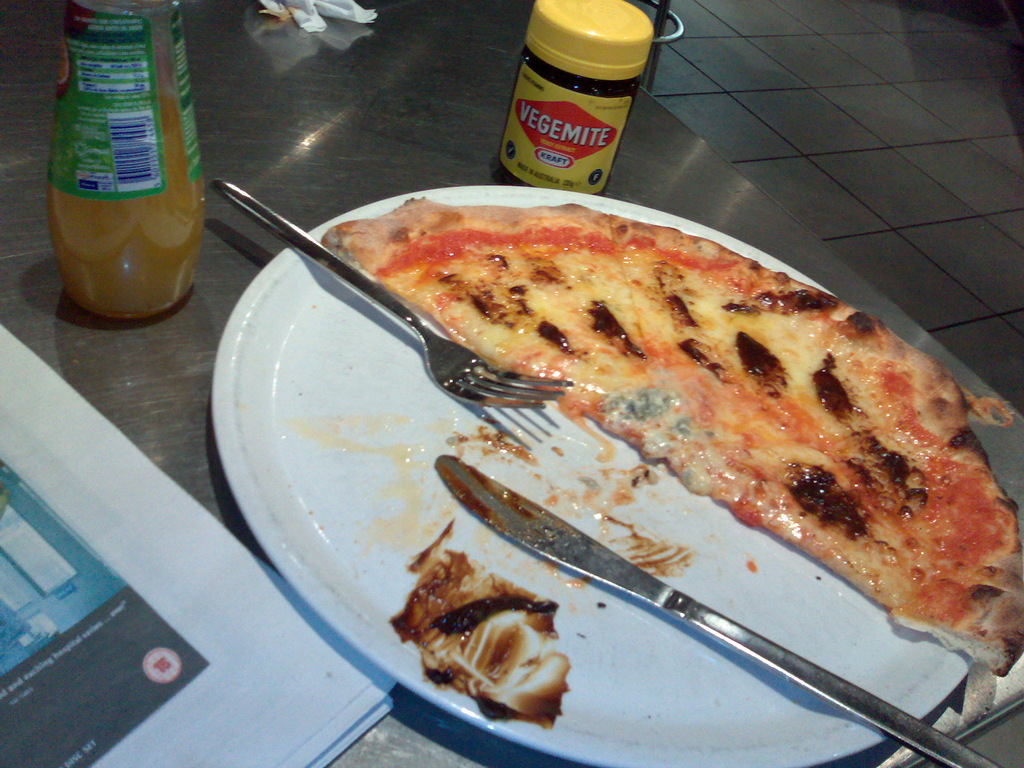pizza: (314, 164, 1021, 644)
